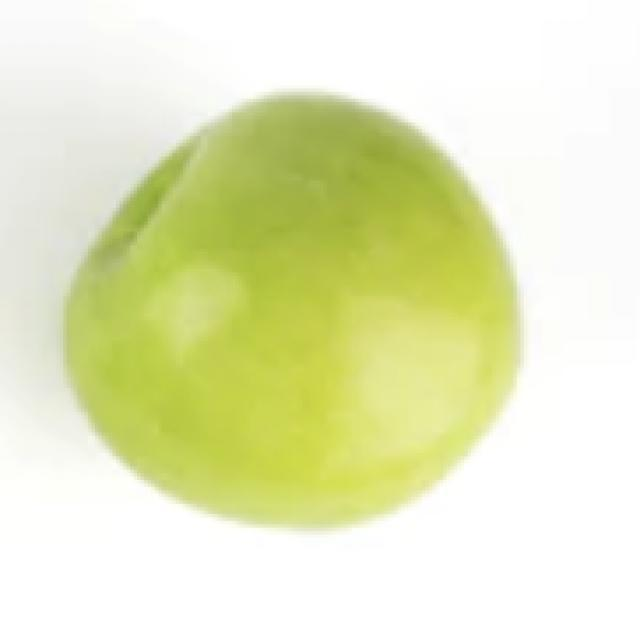Fresh Apple: (68, 87, 520, 515)
